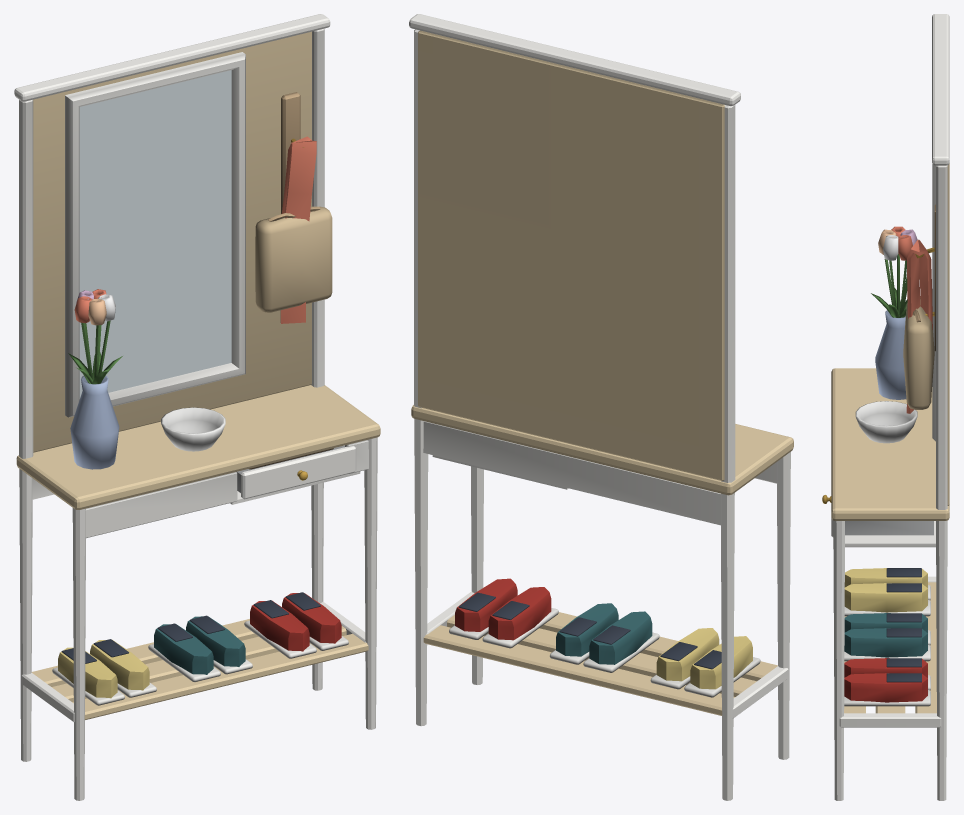
File: entryConsole.glb
3 renders of one model, left to right at view 1: azimuth 30°, elevation 25°; view 2: azimuth 150°, elevation 25°; view 3: azimuth 270°, elevation 25°, orthographic. The views are drawn at different scales.
Visible parts, largest first — view 1: body, drawer; view 2: body; view 3: body, drawer.
Boxes of the visible parts, left/top/right/bottom form: body: left=14, top=14, right=380, bottom=800; drawer: left=236, top=445, right=356, bottom=499; body: left=409, top=14, right=793, bottom=800; body: left=831, top=14, right=949, bottom=800; drawer: left=822, top=495, right=933, bottom=537.
Bounding box in the file's own units: 0.87 × 1.81 × 0.323.
